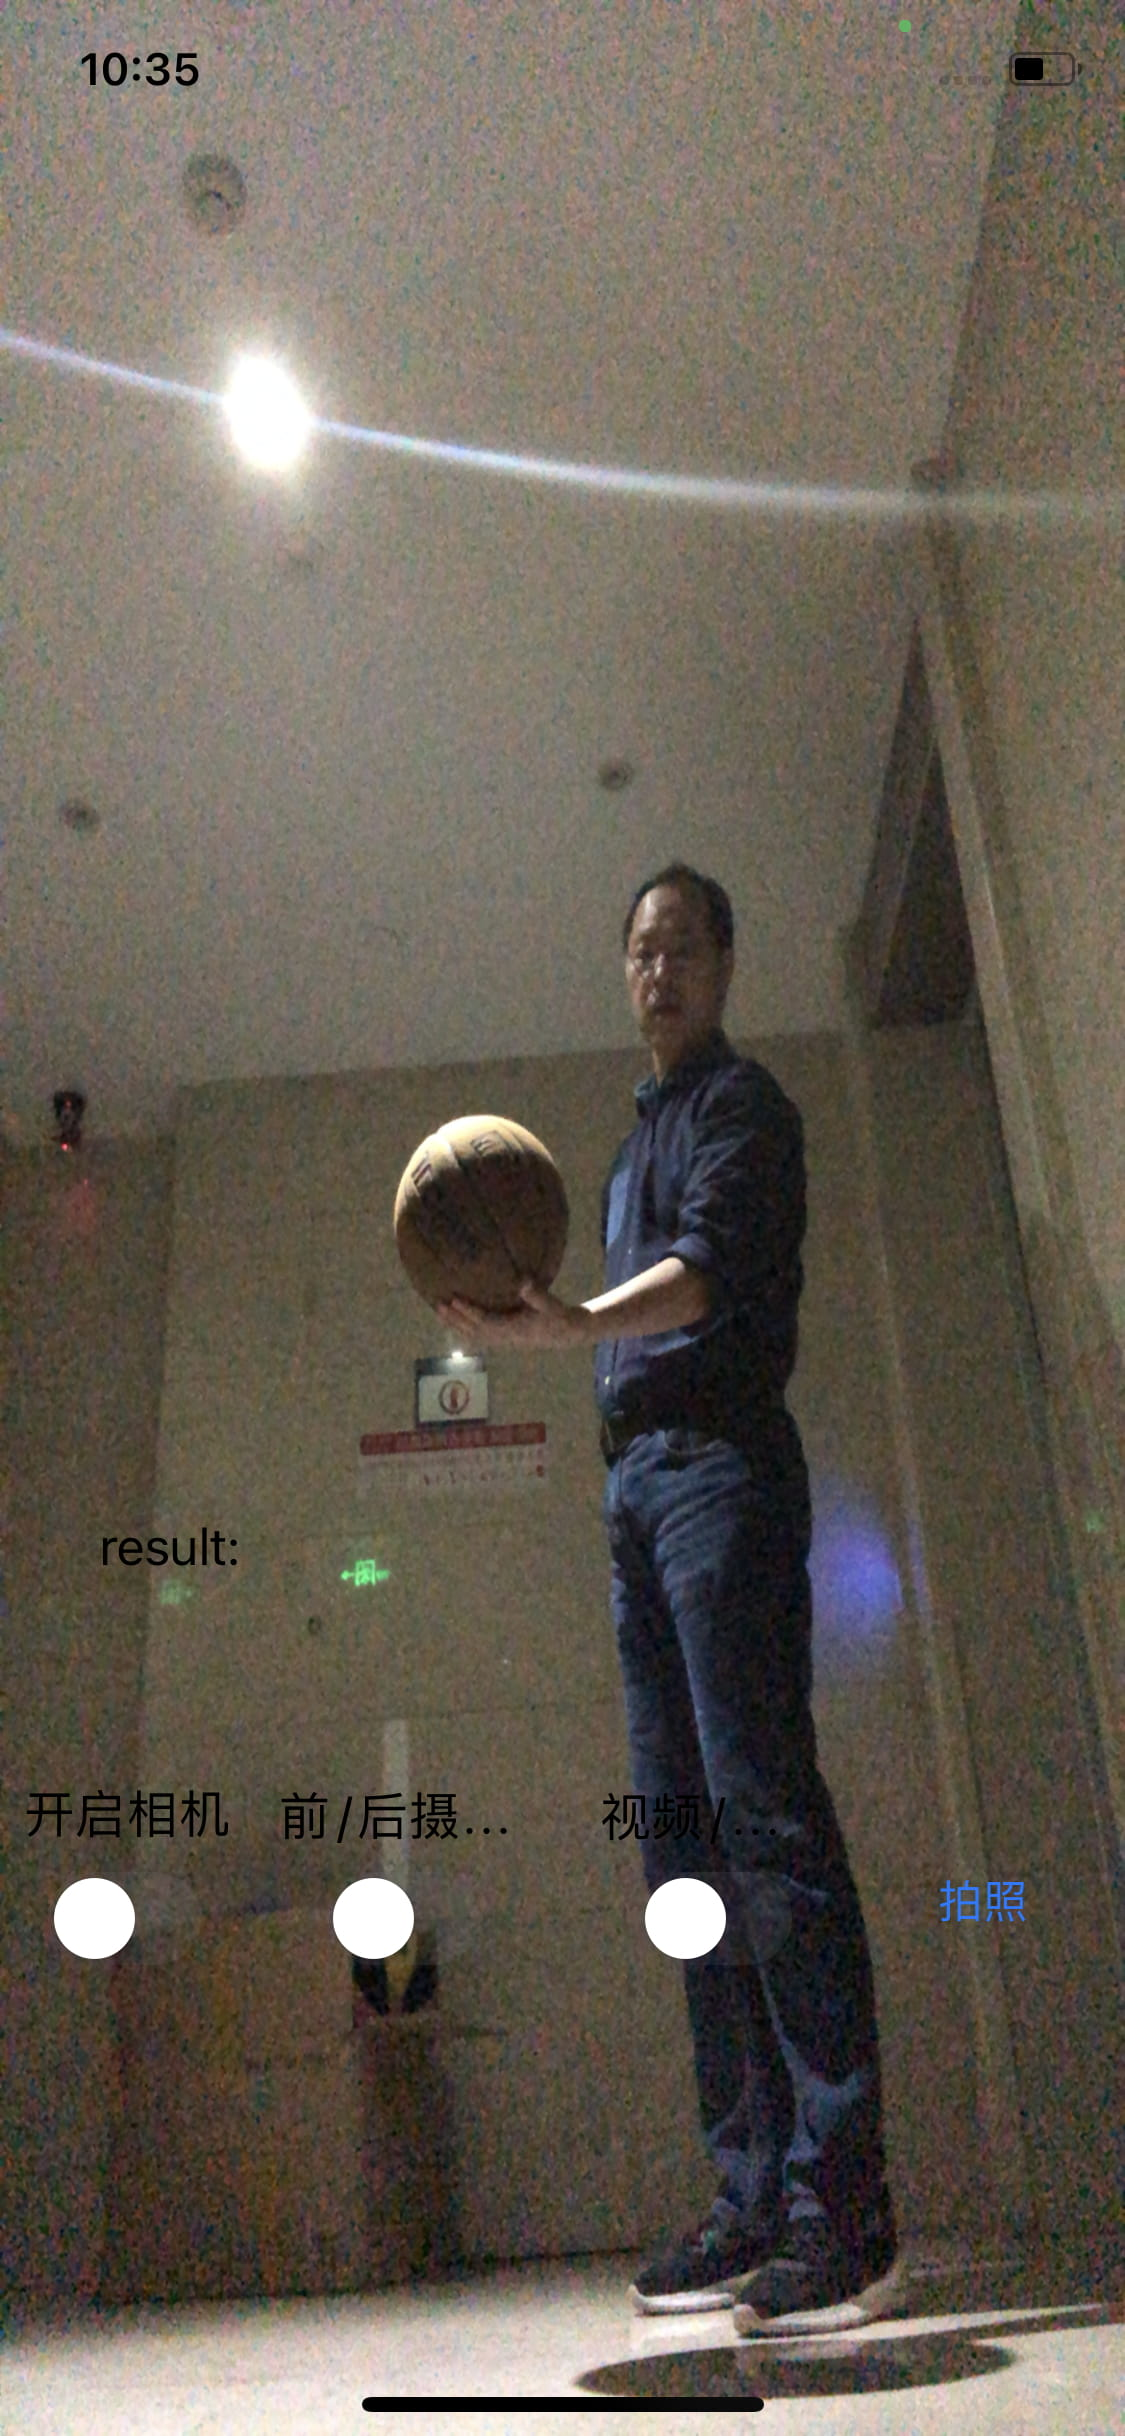ball: (393, 1115, 572, 1317)
